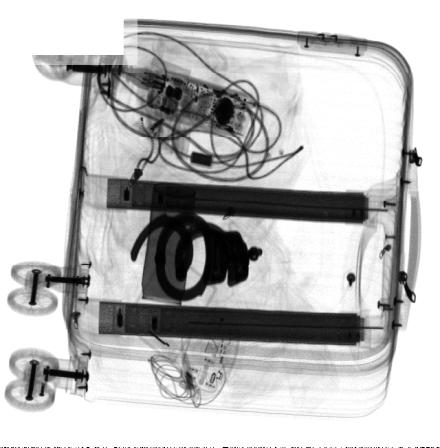HandCuffs: (128, 211, 263, 303)
